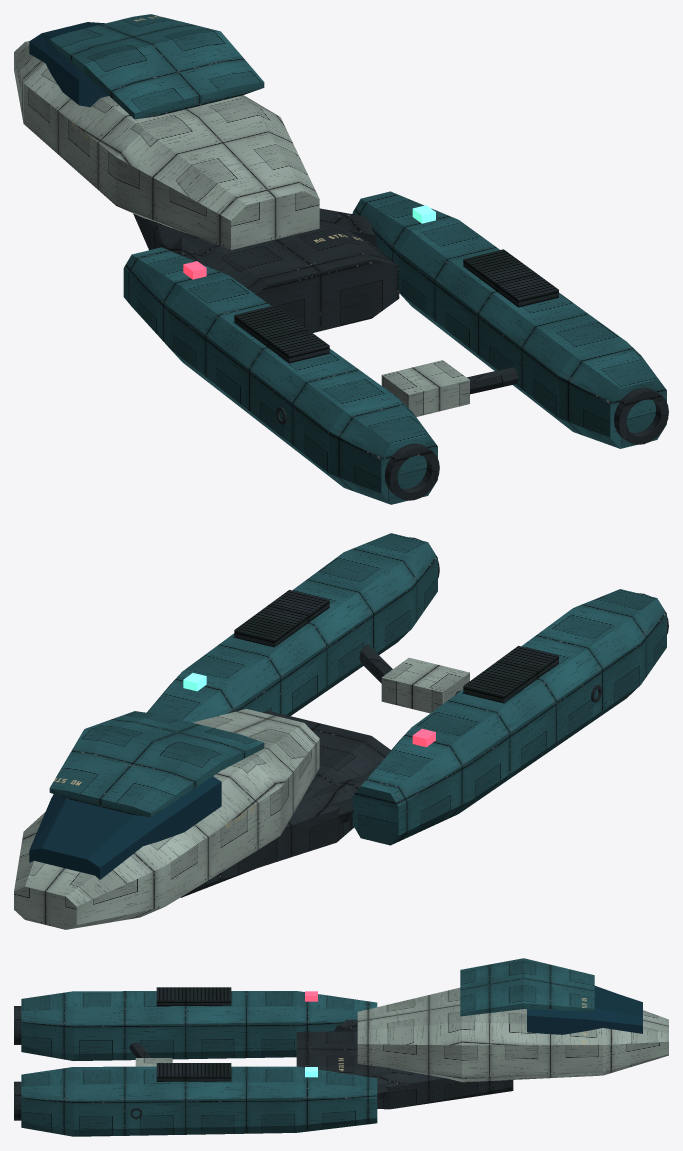
The model's file is ship_pipit.glb.
3 renders of one model, top to bottom at view 1: azimuth 30°, elevation 25°; view 2: azimuth 150°, elevation 25°; view 3: azimuth 270°, elevation 25°, orthographic. The views are drawn at different scales.
Visible parts, largest first — view 1: Teal, Cream, Frame, Thermal, Glass; view 2: Teal, Cream, Frame, Glass, Thermal; view 3: Teal, Cream, Frame, Glass, Thermal.
Boxes of the visible parts, left/top/right/bottom form: Teal: left=49, top=14, right=666, bottom=504; Cream: left=14, top=41, right=469, bottom=416; Frame: left=133, top=208, right=668, bottom=500; Thermal: left=234, top=249, right=558, bottom=363; Glass: left=29, top=22, right=108, bottom=107; Teal: left=49, top=533, right=666, bottom=845; Cream: left=14, top=657, right=469, bottom=929; Frame: left=180, top=537, right=668, bottom=897; Glass: left=29, top=776, right=221, bottom=879; Thermal: left=234, top=590, right=558, bottom=703; Teal: left=21, top=958, right=594, bottom=1136; Cream: left=135, top=987, right=668, bottom=1082; Frame: left=14, top=1006, right=513, bottom=1120; Glass: left=527, top=986, right=642, bottom=1034; Thermal: left=156, top=987, right=231, bottom=1081.
Bounding box in the file's own units: 6.36 × 3.2 × 16.84.
8 materials, 6 textured.
